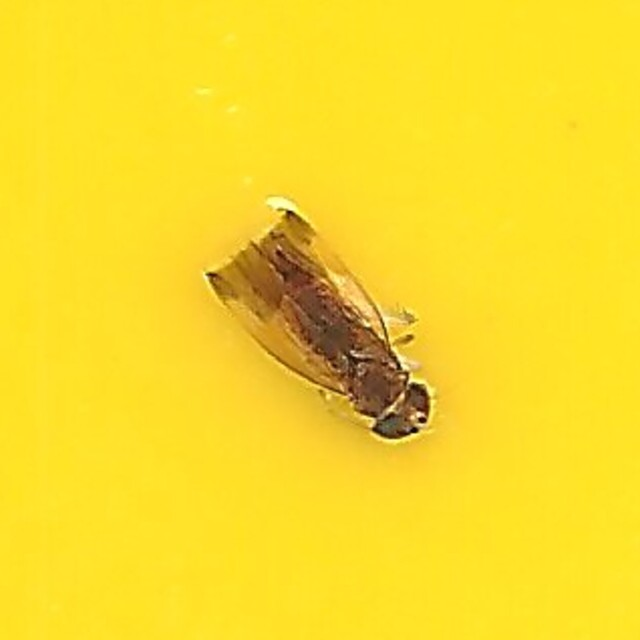Hemiptera: (201, 197, 439, 443)
